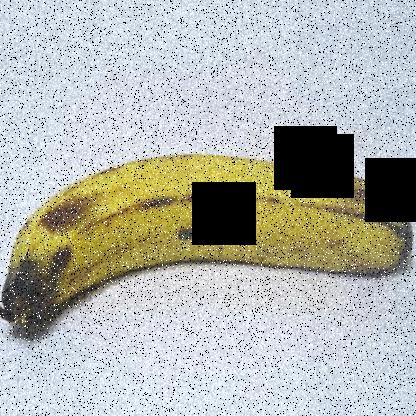ripe: (0, 153, 410, 327)
